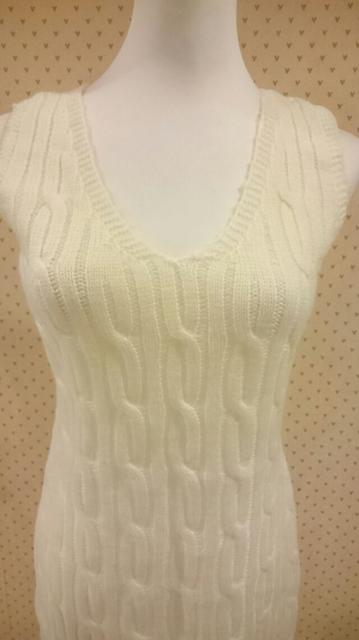Tops: (1, 87, 351, 640)
